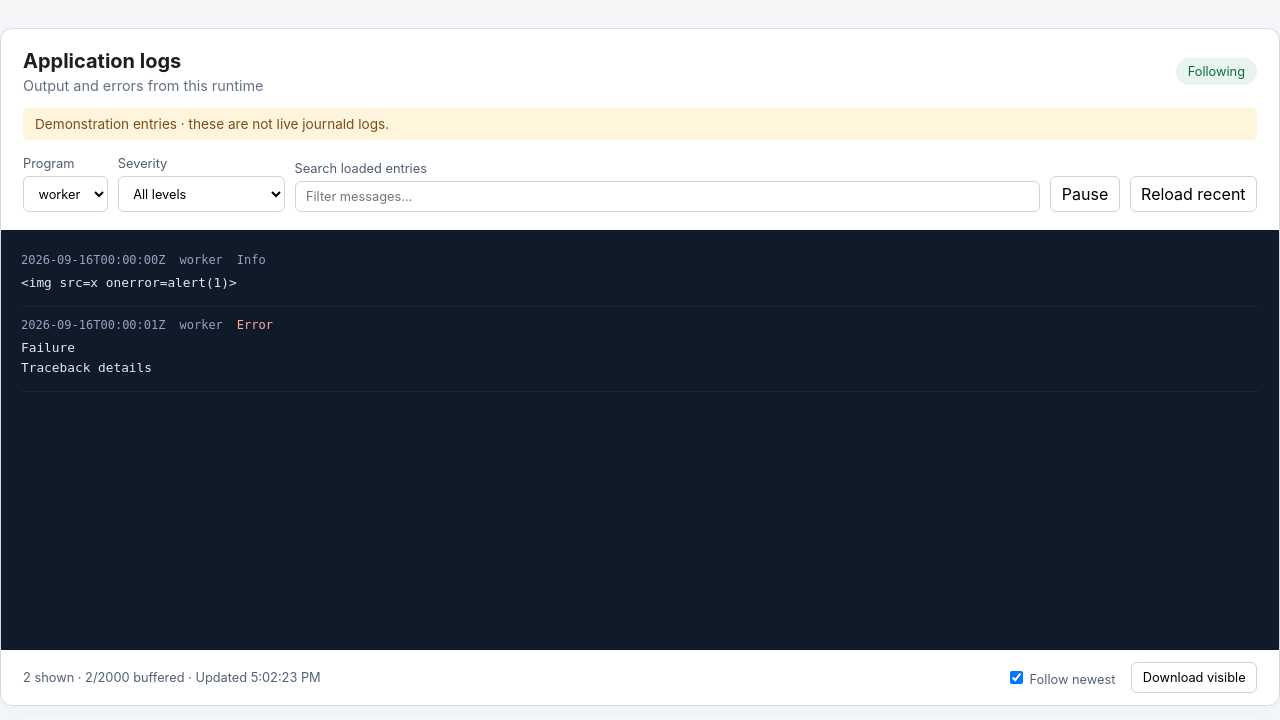
Test: log viewer › renders messages as text, filters errors, and pauses
This screenshot has width=1280, height=720.
Expected: the text "<img src=x onerror=alert(1)>" is shown, top-left (21, 275), bottom-right (237, 290)
Expected: the text "Demonstration entries · these are not live journald logs." is shown, top-left (23, 108), bottom-right (1257, 140)
Select "Errors only" in the dropdown labelled "Severity": point(201, 194) top-left (118, 176), bottom-right (285, 212)
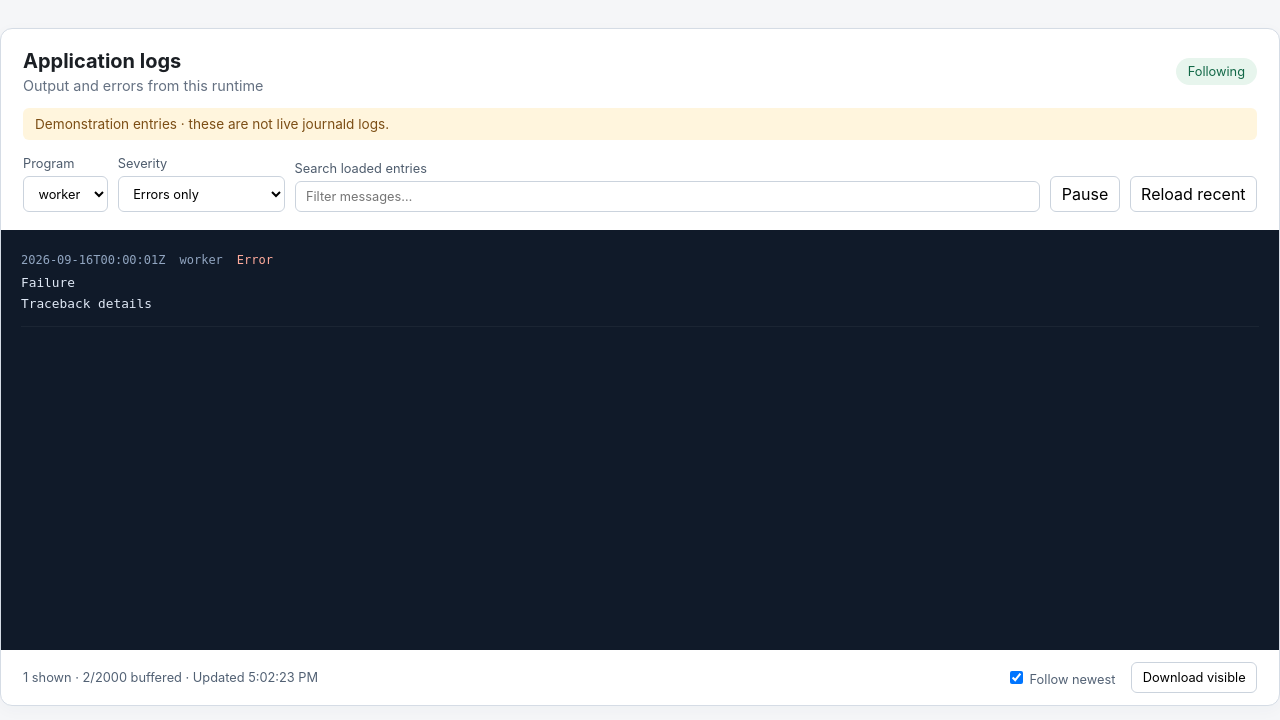
Expected: the text "<img src=x onerror=alert(1)>" is gone
Click the button "Pause": point(1085, 194) top-left (1050, 176), bottom-right (1120, 212)
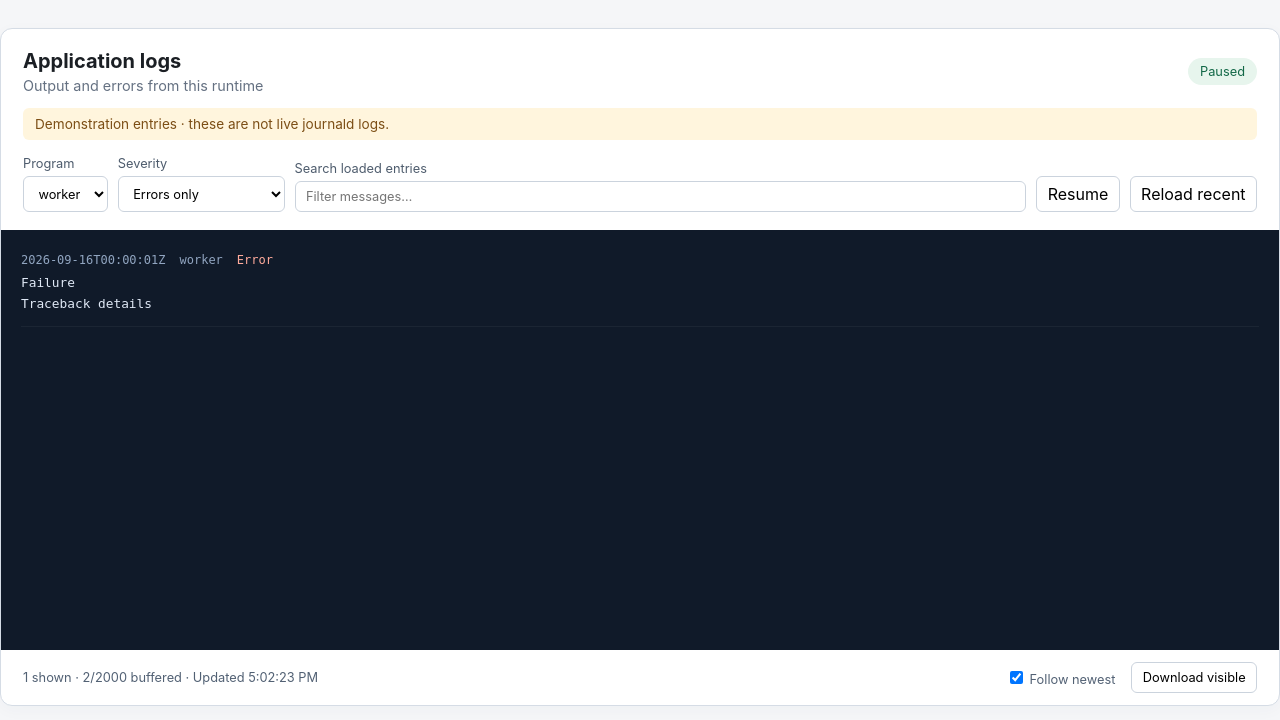
Expected: the button "Resume" is shown, top-left (1036, 176), bottom-right (1120, 212)
